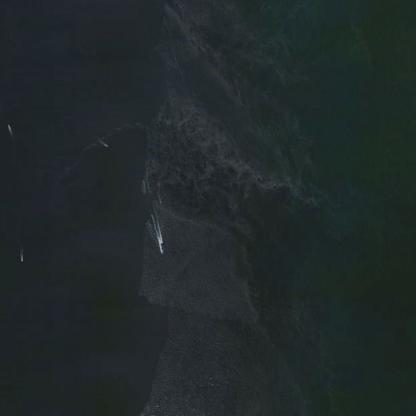ship: (99, 138, 109, 150), (2, 122, 5, 132), (160, 241, 162, 255), (20, 248, 21, 257)
